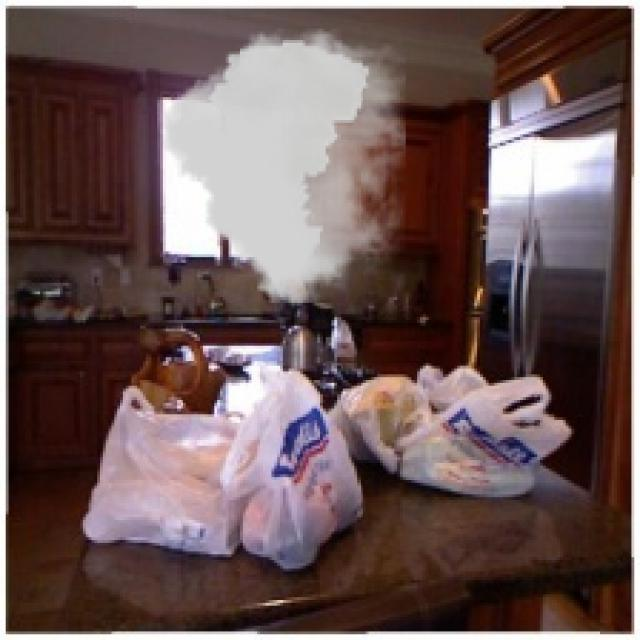smoke: (163, 28, 406, 303)
